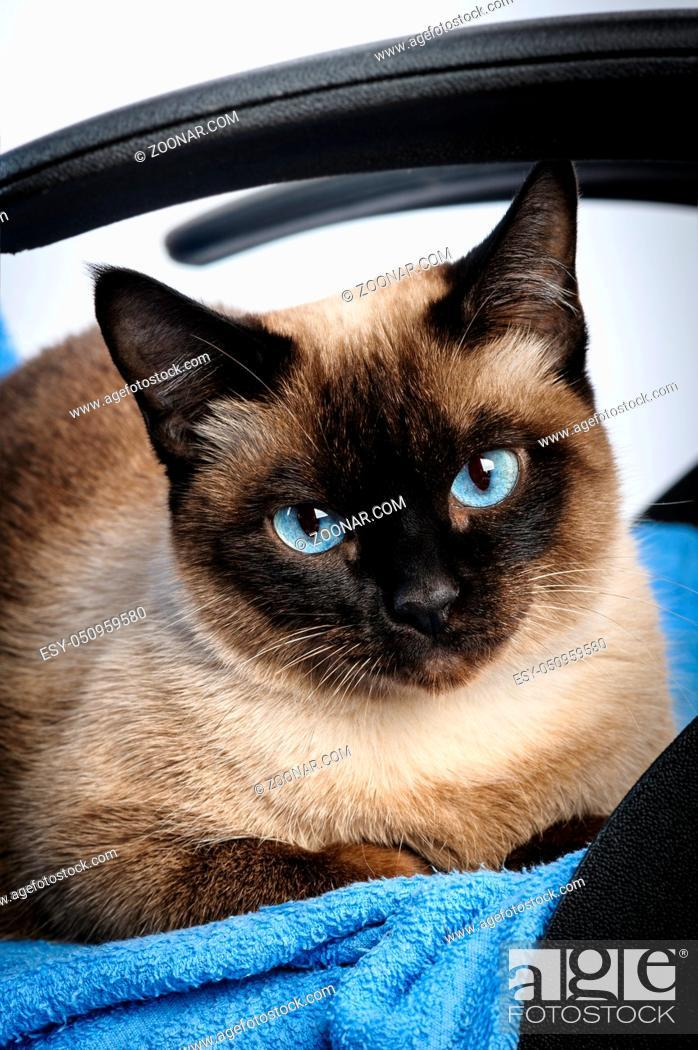siamese: (88, 144, 624, 713)
